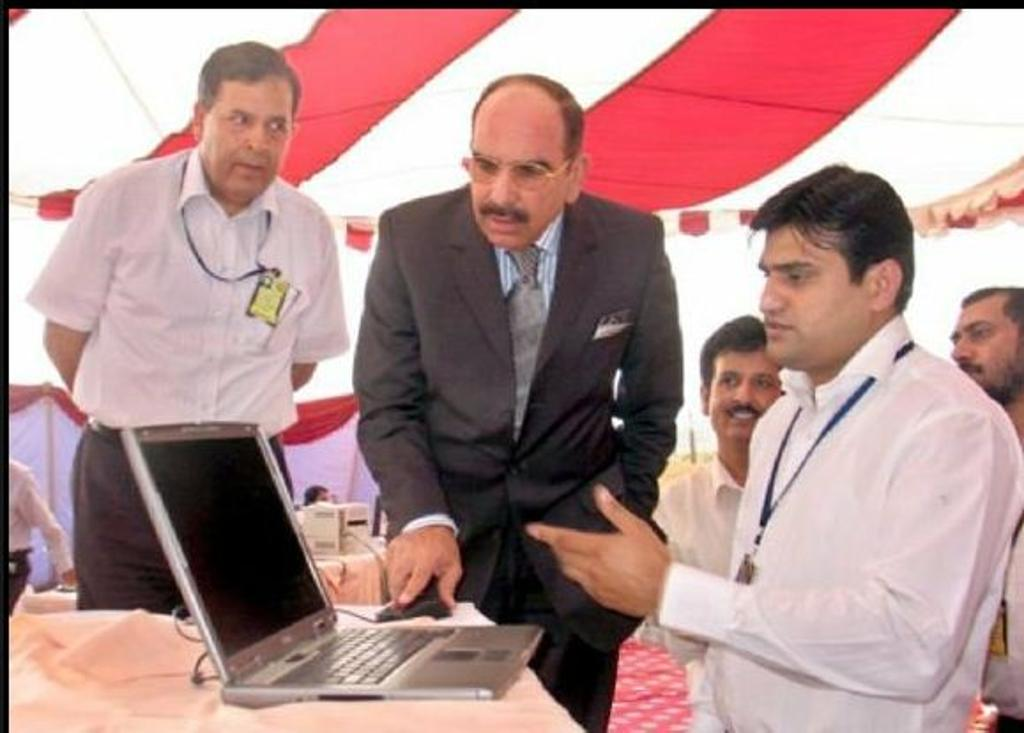face: (760, 224, 858, 370), (468, 96, 558, 248), (210, 68, 290, 204), (716, 336, 780, 442), (958, 286, 1012, 394)
